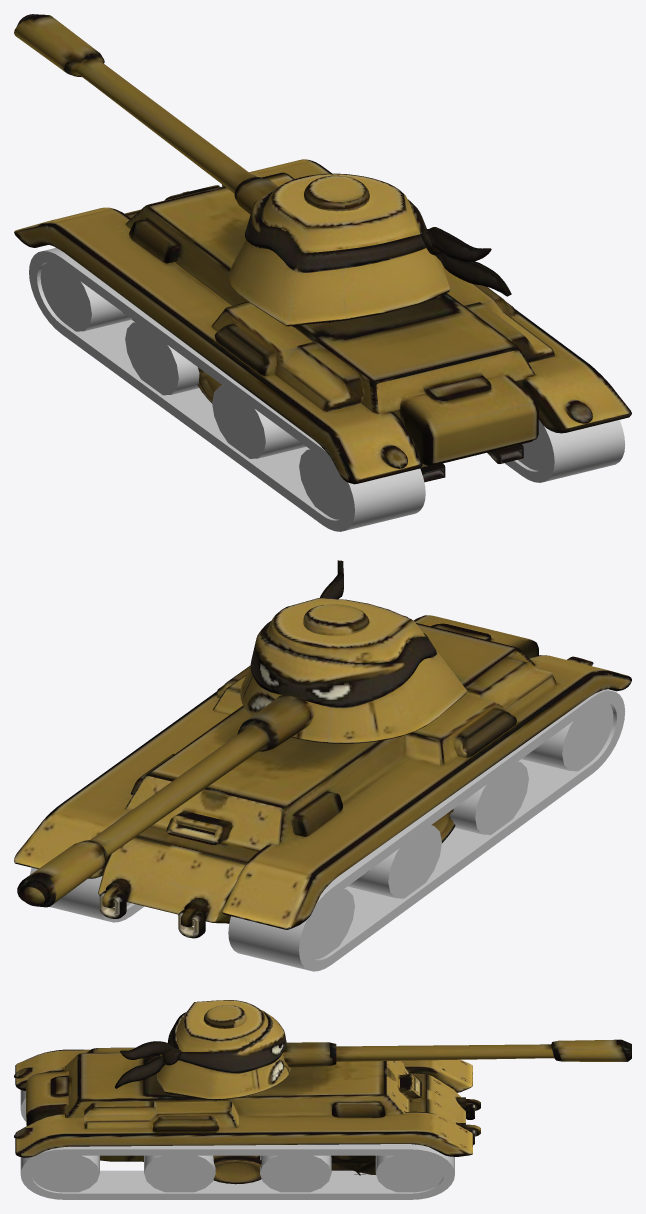
Rendered from angry.obj.
The picture shows the model from 3 angles, top to bottom: view 1: azimuth 30°, elevation 25°; view 2: azimuth 150°, elevation 25°; view 3: azimuth 270°, elevation 25°; orthographic projection. The views are drawn at different scales.
Visible parts, largest first — view 1: body, turret, ltread, barrel, rtread, leftWheel2, leftWheel4, leftWheel3, leftWheel1; view 2: body, turret, ltread, barrel, leftWheel3, leftWheel1, leftWheel2, leftWheel4, rtread; view 3: body, turret, rtread, barrel, rightWheel3, rightWheel2, rightWheel4, rightWheel1.
Boxes of the visible parts, x1,y1,x2,y2 form: body: (14,159,631,484); turret: (229,173,511,326); ltread: (29,248,425,531); barrel: (14,14,278,214); rtread: (504,420,625,482); leftWheel2: (212,385,306,458); leftWheel4: (40,262,132,331); leftWheel3: (125,322,199,395); leftWheel1: (299,449,346,519); body: (14,615,631,938); turret: (240,560,467,743); ltread: (228,689,625,971); barrel: (17,695,313,907); leftWheel3: (348,825,441,898); leftWheel1: (522,702,613,771); leftWheel2: (449,761,528,834); leftWheel4: (307,889,354,959); rtread: (30,868,144,922); body: (14,1042,480,1184); turret: (115,1000,291,1099); rtread: (20,1144,454,1199); barrel: (283,1039,631,1067); rightWheel3: (260,1155,331,1192); rightWheel2: (144,1155,215,1192); rightWheel4: (375,1155,443,1192); rightWheel1: (31,1155,99,1192).
Bounding box in the file's own units: 2.8 × 2.05 × 7.94.
